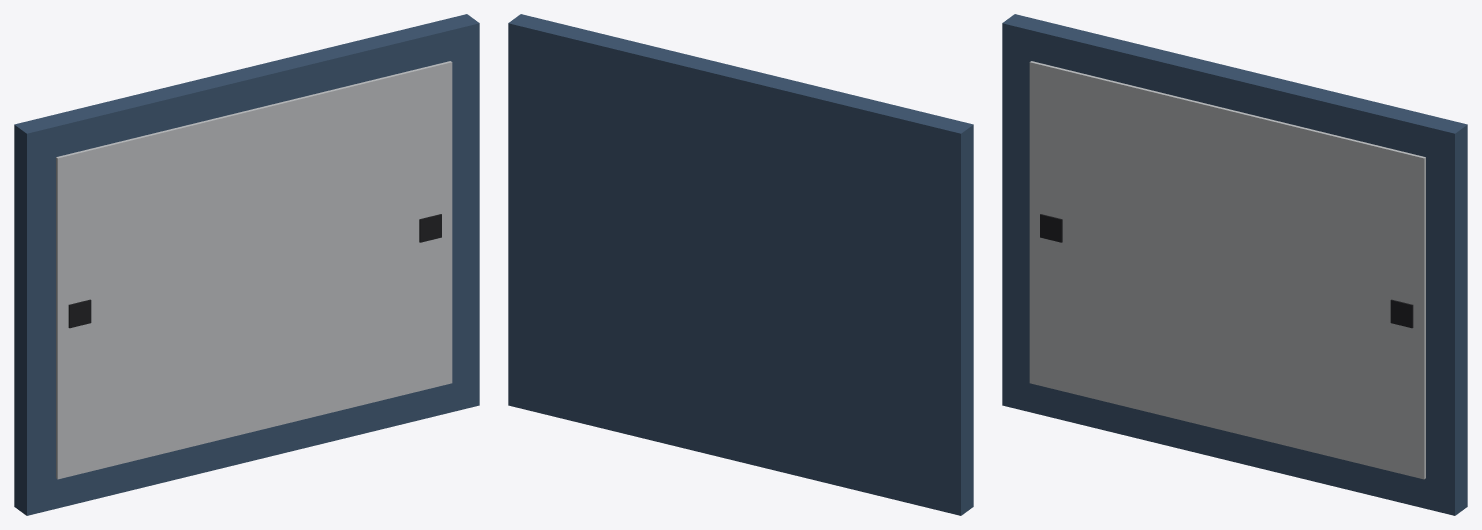
The model's file is sign_house_number.glb.
The picture shows the model from 3 angles, left to right: view 1: azimuth 30°, elevation 25°; view 2: azimuth 150°, elevation 25°; view 3: azimuth 330°, elevation 25°; orthographic projection.
Parts seen in each view (by area): view 1: Panel, Prop; view 2: Prop; view 3: Panel, Prop.
Boxes of the visible parts, left/top/right/bottom form: Panel: left=56, top=61, right=452, bottom=479; Prop: left=14, top=14, right=479, bottom=515; Prop: left=508, top=14, right=973, bottom=515; Panel: left=1029, top=61, right=1425, bottom=479; Prop: left=1002, top=14, right=1467, bottom=515.
Size of the model in its own units: 0.62 by 0.5 by 0.036.
